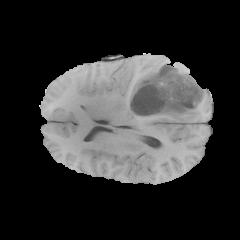glioma: (129, 62, 204, 116)
